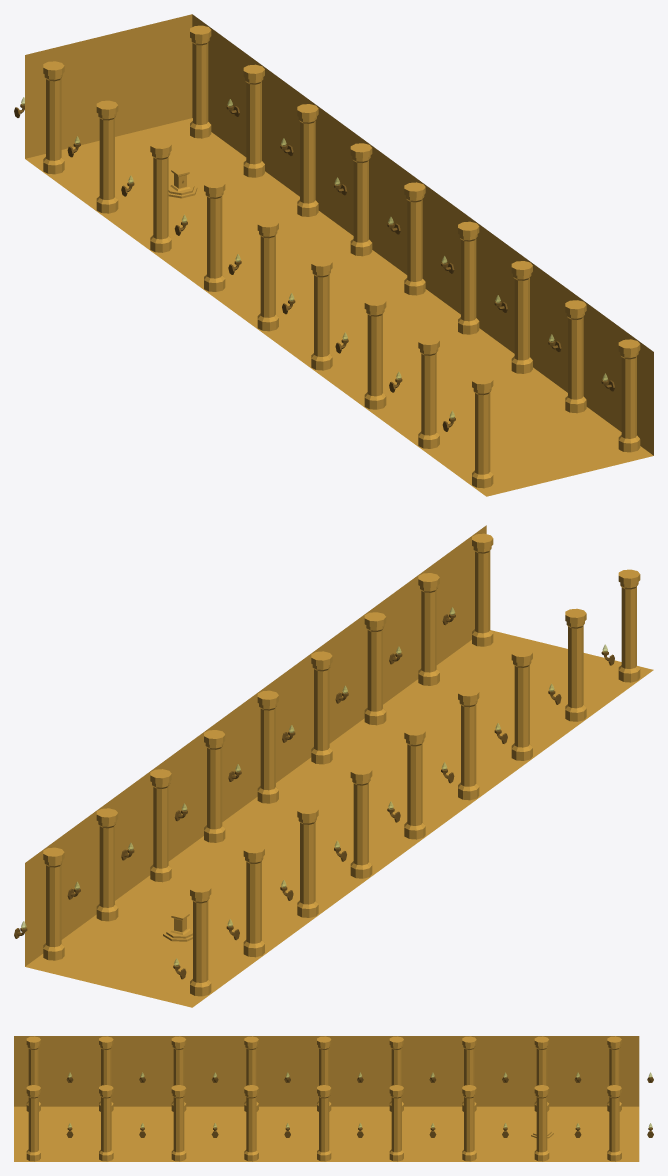
Rendered from mystery_room.glb.
The picture shows the model from 3 angles, top to bottom: view 1: azimuth 30°, elevation 25°; view 2: azimuth 150°, elevation 25°; view 3: azimuth 270°, elevation 25°; orthographic projection. The views are drawn at different scales.
Visible parts, largest first — view 1: Walls, Columns, Torch; view 2: Walls, Columns, Torch; view 3: Walls, Columns, Torch.
Boxes of the visible parts, <box> form: Walls: <box>25,14,653,496</box>; Columns: <box>43,25,640,488</box>; Torch: <box>14,97,614,431</box>; Walls: <box>25,525,653,1007</box>; Columns: <box>43,533,640,996</box>; Torch: <box>14,607,614,979</box>; Walls: <box>14,1036,639,1161</box>; Columns: <box>26,1036,621,1161</box>; Torch: <box>66,1072,653,1137</box>.
Bounding box in the file's own units: 33.74 × 20 × 165.
